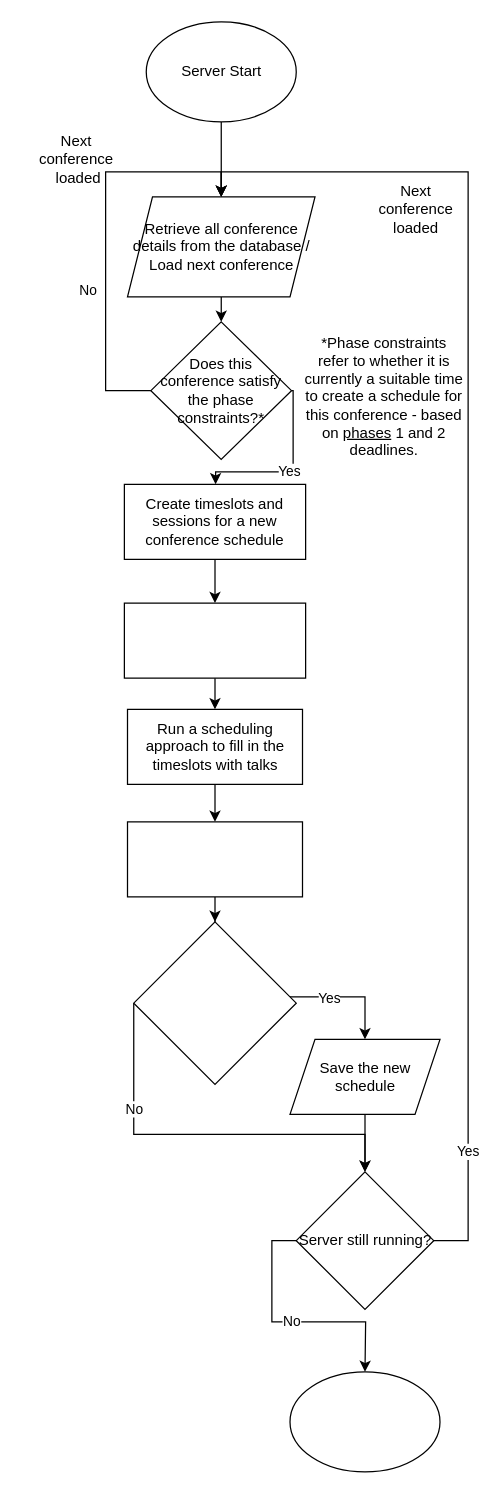
This 501x1494 diagram has some shape labels left out. The box of each missing label's shape, as (x1, y1, x2, y2) in pixels:
Add breaks incl. lunch slots: (123, 602, 306, 678)
Better evaluation score compared to previously saved schedule?: (132, 921, 296, 1084)
Evaluate the newly created schedule using simulated scoring function: (126, 821, 302, 897)
Server End: (289, 1371, 440, 1472)
